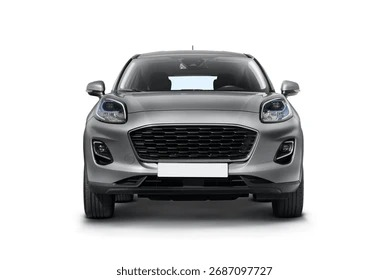car: (76, 50, 305, 224), (75, 49, 304, 220)
